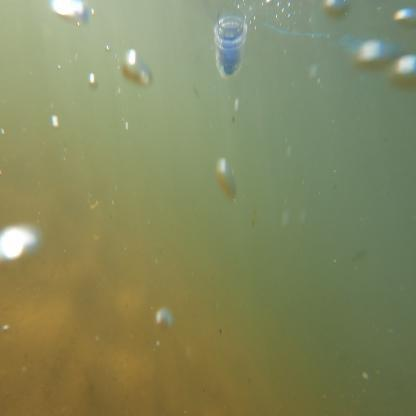Rác: (198, 1, 264, 82)
